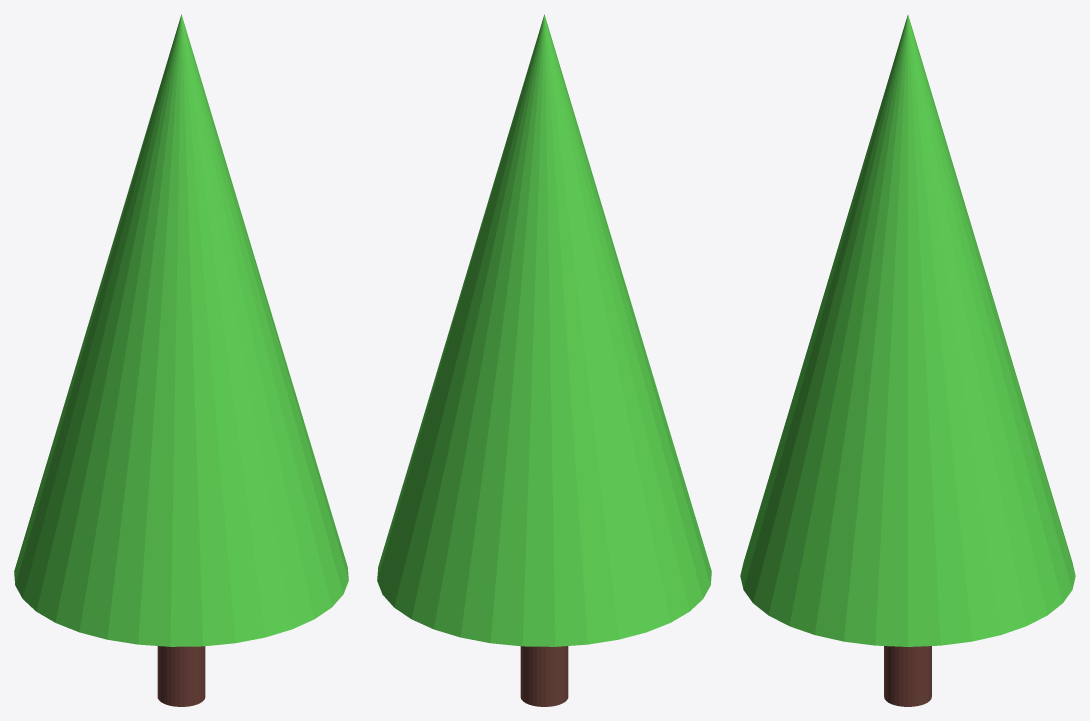
File: Arbre (1).fbx
3 views of the same model, side by side, from view 1: azimuth 30°, elevation 25°; view 2: azimuth 150°, elevation 25°; view 3: azimuth 270°, elevation 25° (orthographic).
Visible parts, largest first — view 1: Cone; view 2: Cone; view 3: Cone.
Boxes of the visible parts, box(x1,y1,x2,y2) form: Cone: box(14, 14, 348, 706); Cone: box(377, 14, 711, 706); Cone: box(740, 15, 1075, 706).
Bounding box in the file's own units: 108 × 243 × 108.
